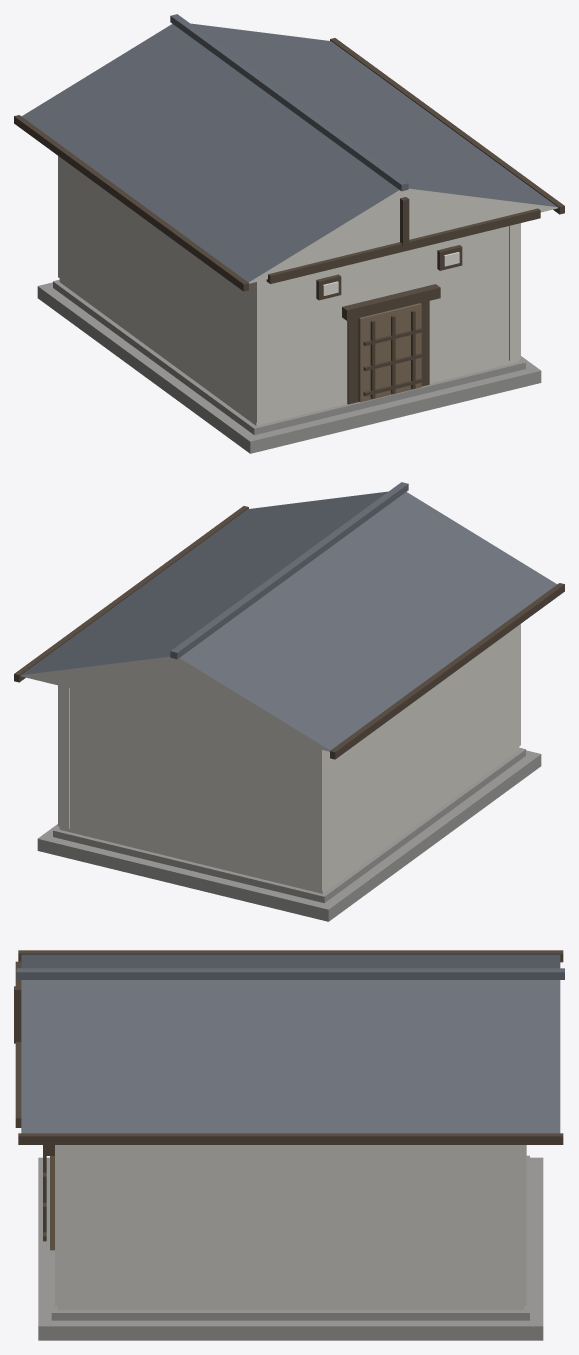
Rendered from family_kura_deep.glb.
3 renders of one model, top to bottom at view 1: azimuth 30°, elevation 25°; view 2: azimuth 150°, elevation 25°; view 3: azimuth 270°, elevation 25°, orthographic. The views are drawn at different scales.
Visible parts, largest first — view 1: family_kura_deep; view 2: family_kura_deep; view 3: family_kura_deep.
Boxes of the visible parts, box(x1,y1,x2,y2) form: family_kura_deep: box(14, 14, 564, 453); family_kura_deep: box(14, 482, 564, 921); family_kura_deep: box(14, 950, 564, 1340).
Bounding box in the file's own units: 8.3 × 5.95 × 10.39.
